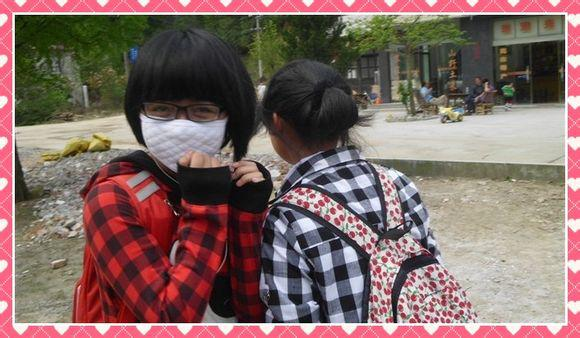OK: (140, 91, 230, 172)
